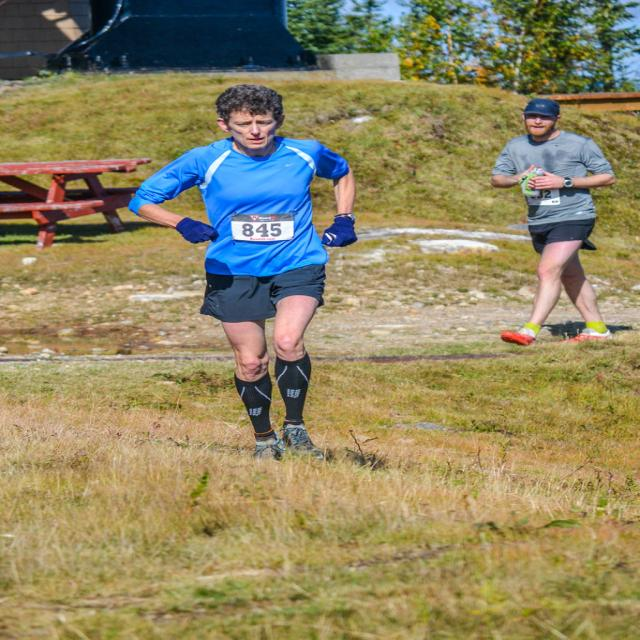no_helmet: (242, 85, 304, 116), (440, 83, 502, 114)
